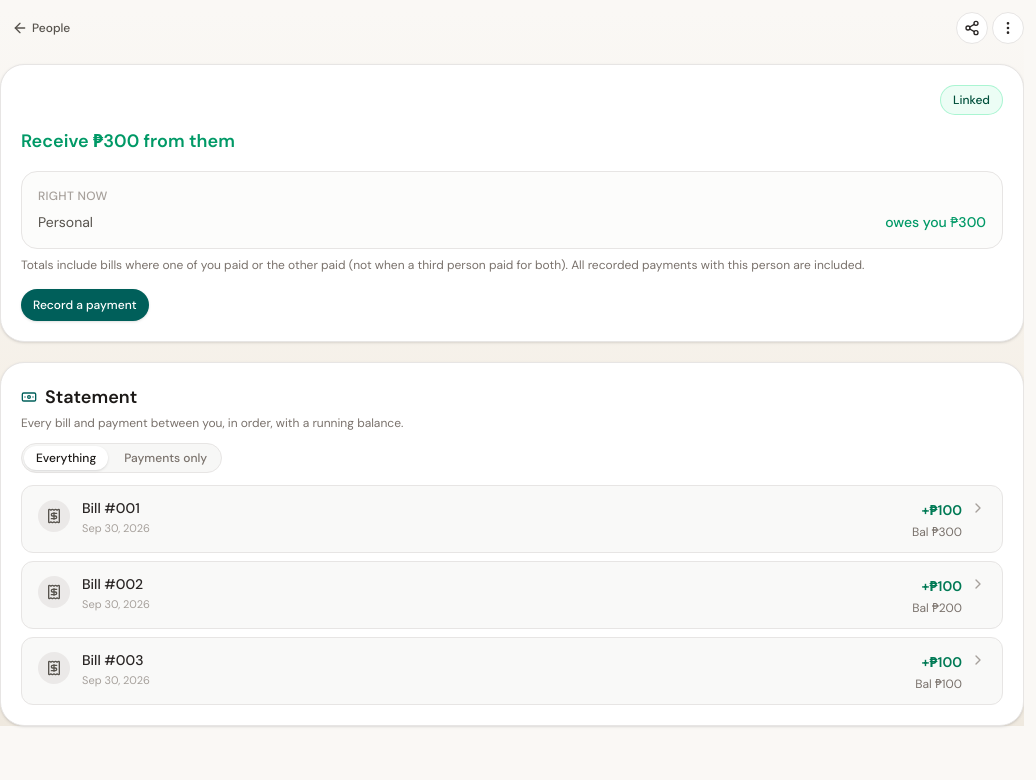
PersonDetailPage statement, Payments filter on the server › C12: Payments only with no payments shows the payments empty copy
Click the button "Payments only". click: (166, 458)
box: [112,446,219,470]
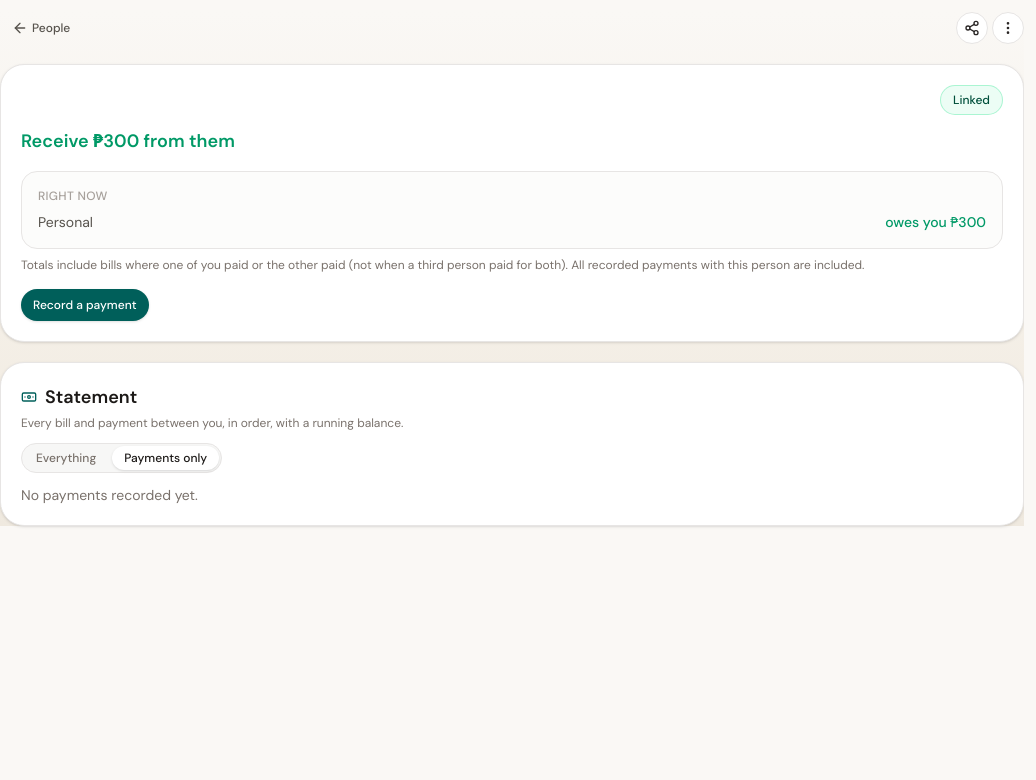
expect the text "No payments recorded yet." is shown: met, box [21,486,198,504]
expect the text "Bill #001" is gone: met
